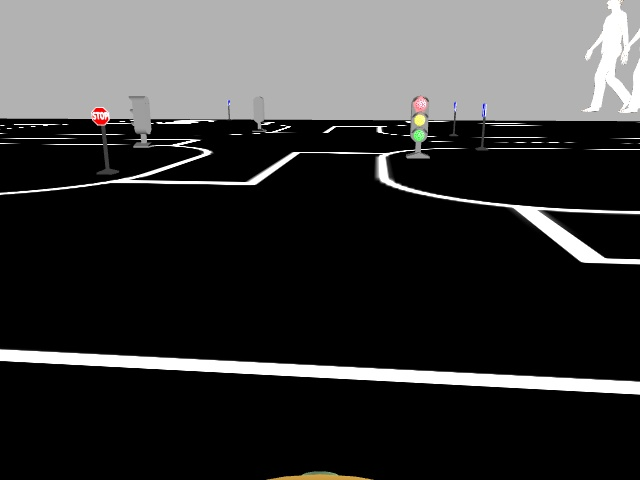Stop: (89, 106, 110, 124)
TrafficLight: (410, 96, 430, 142)
